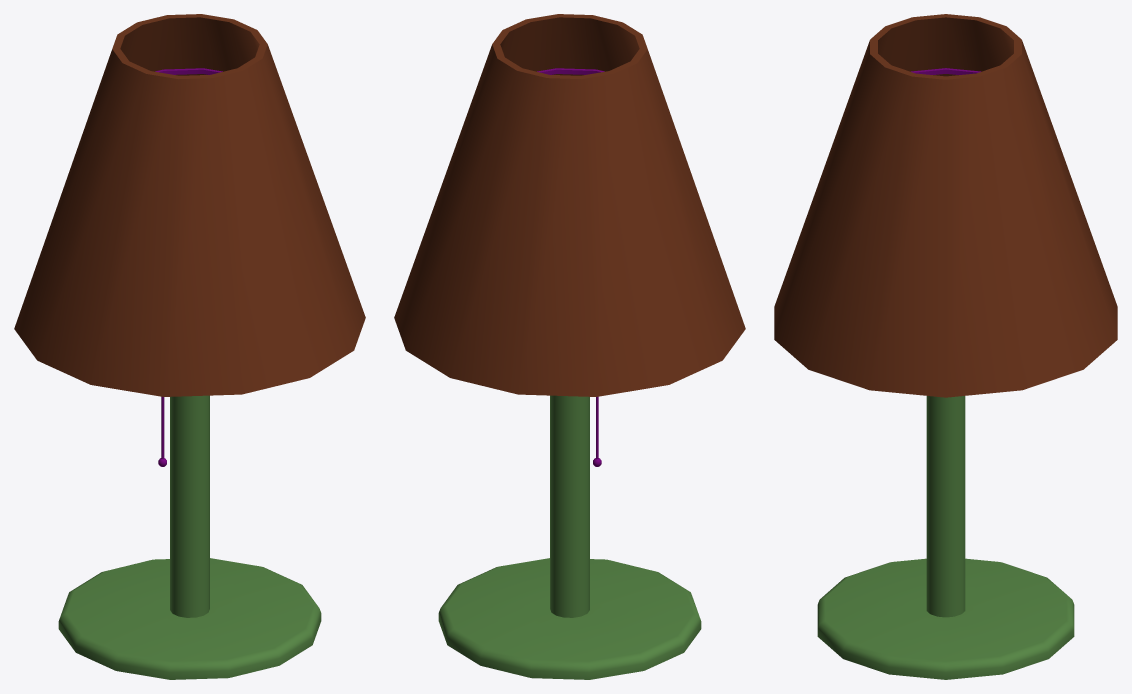
File: SM_Lamp_Small.fbx
The picture shows the model from 3 angles, left to right: view 1: azimuth 30°, elevation 25°; view 2: azimuth 150°, elevation 25°; view 3: azimuth 270°, elevation 25°; orthographic projection.
Parts seen in each view (by area): view 1: SM_Lamp_Small; view 2: SM_Lamp_Small; view 3: SM_Lamp_Small.
Part boxes in pixels (bbox=[...]): SM_Lamp_Small: bbox=[14, 14, 365, 679]; SM_Lamp_Small: bbox=[394, 14, 745, 679]; SM_Lamp_Small: bbox=[774, 14, 1117, 679].
Size of the model in its own units: 26.34 by 47.65 by 25.68.
